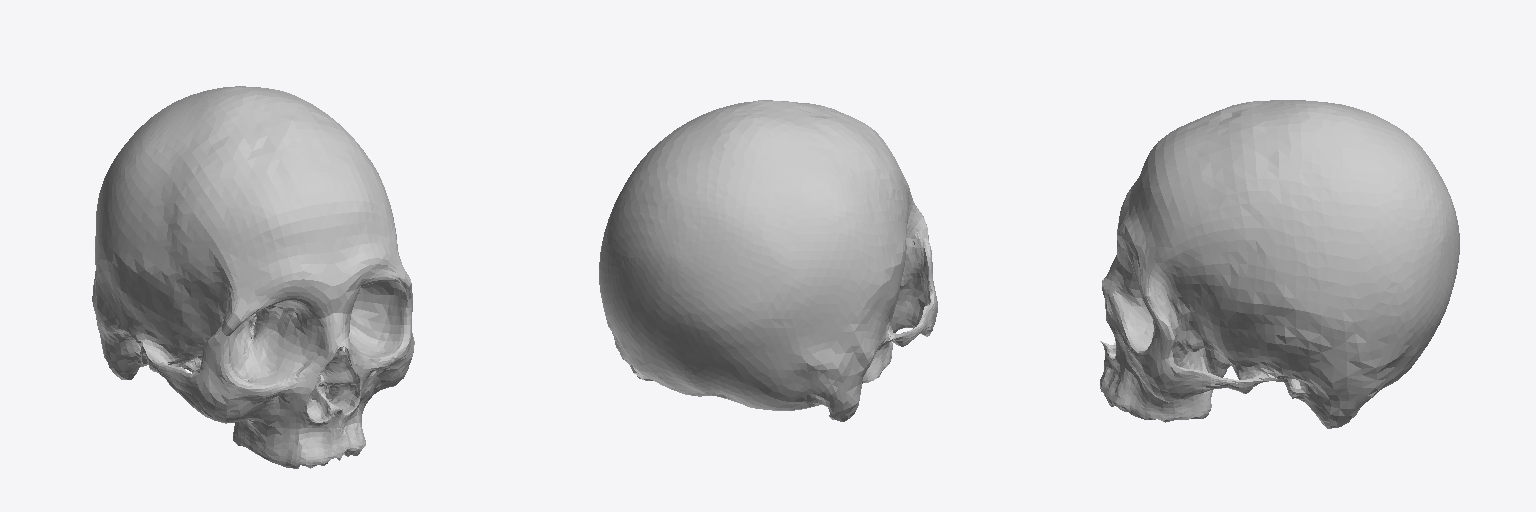
Rendered from Skull_3.obj.
3 views of the same model, side by side, from view 1: azimuth 30°, elevation 25°; view 2: azimuth 150°, elevation 25°; view 3: azimuth 270°, elevation 25° (orthographic).
Visible parts, largest first — view 1: Skull3_CM_Skull3.001; view 2: Skull3_CM_Skull3.001; view 3: Skull3_CM_Skull3.001.
Part boxes in pixels (bbox=[...]): Skull3_CM_Skull3.001: bbox=[92, 86, 414, 468]; Skull3_CM_Skull3.001: bbox=[599, 100, 937, 421]; Skull3_CM_Skull3.001: bbox=[1100, 100, 1459, 428].
Bounding box in the file's own units: 10.65 × 11.45 × 12.66.